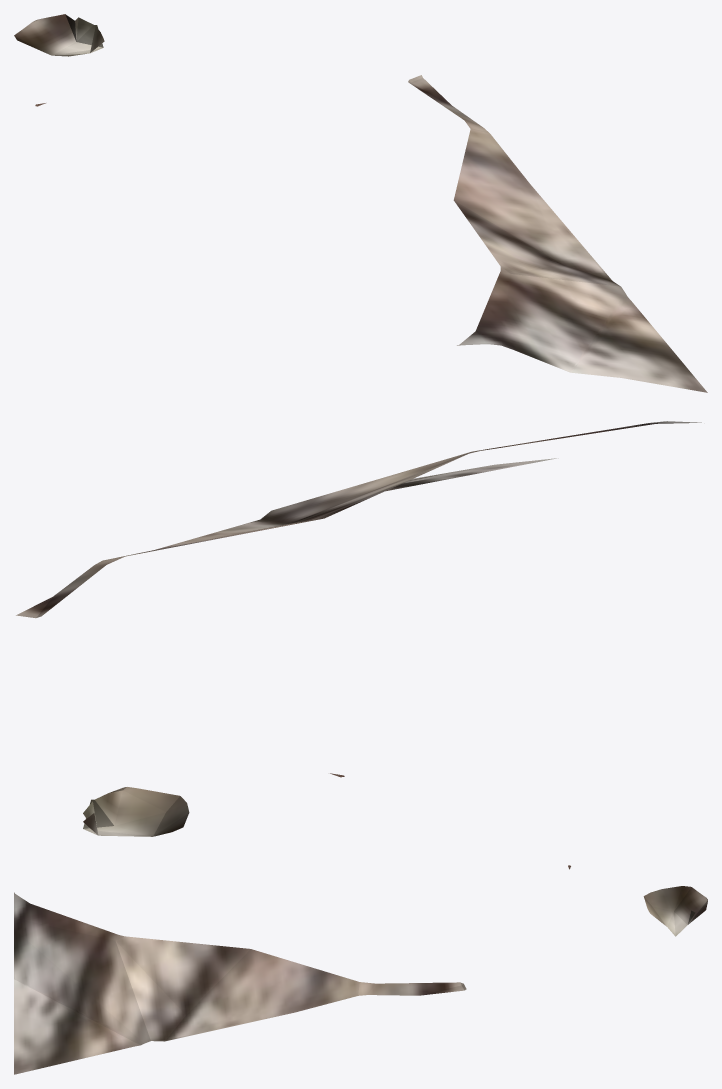
3 views of the same model, one above another, from view 1: azimuth 30°, elevation 25°; view 2: azimuth 150°, elevation 25°; view 3: azimuth 270°, elevation 25° (orthographic). The views are drawn at different scales.
Bounding box in the file's own units: 0.5283 × 0.17 × 1.25.
Materials: 1 (1 with a texture image).
